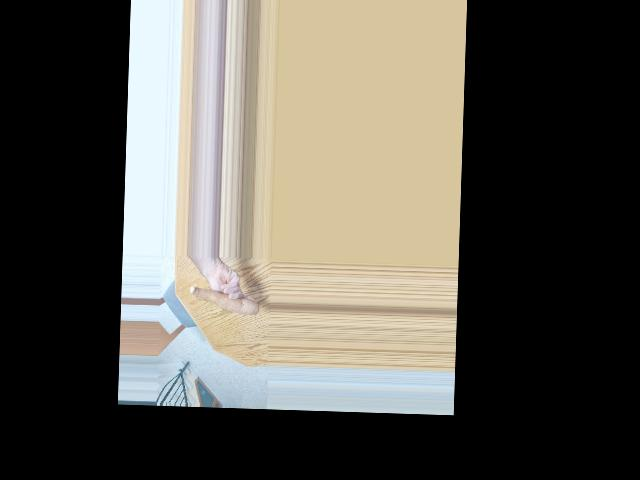sweet_potato: (188, 283, 260, 316)
